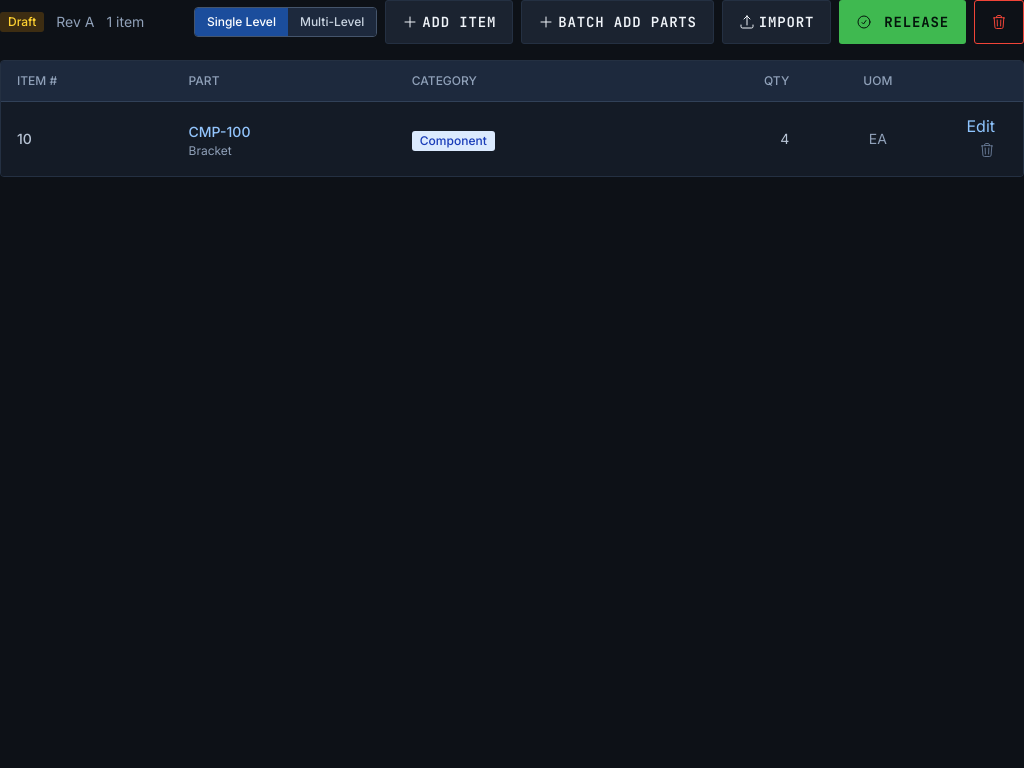
Test: PartBOMTab delete-item confirm pending › stays open and pending mid-flight, blocks a re-click, and closes after settle
The width and height of the screenshot is (1024, 768).
Click the button named "Delete CMP-100" at (987, 150), box [975,138,999,162]
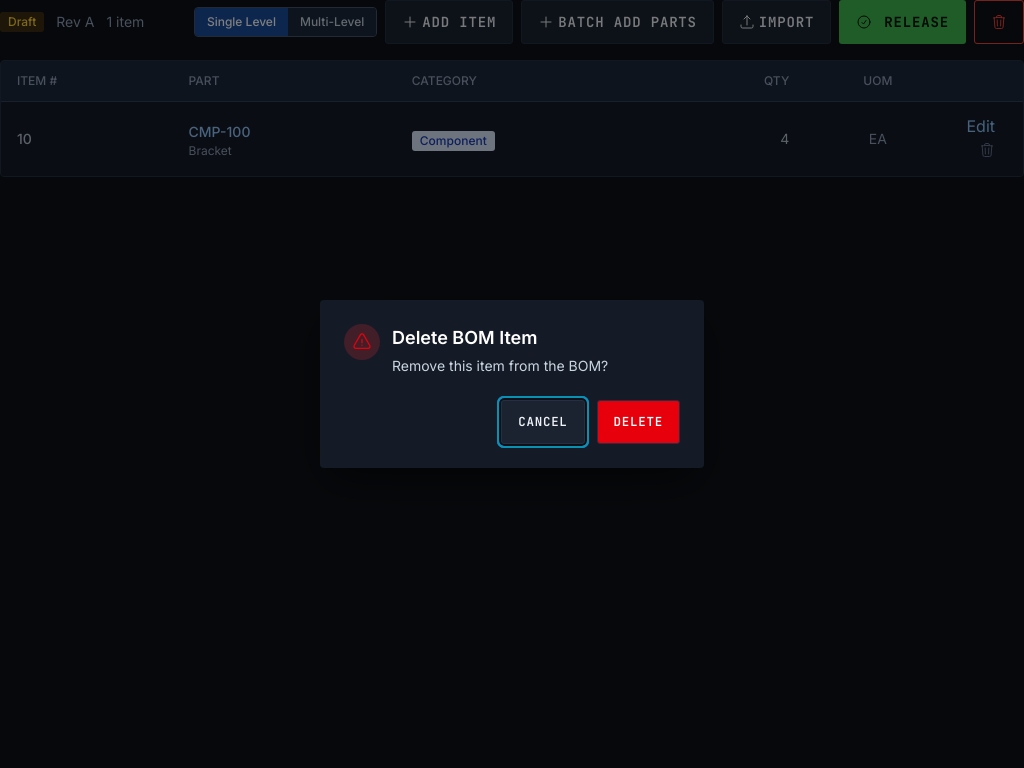
expect the heading "Delete BOM Item" is shown: met, box [392,327,538,348]
Click the button "Delete" at (638, 422), box [597,400,680,444]
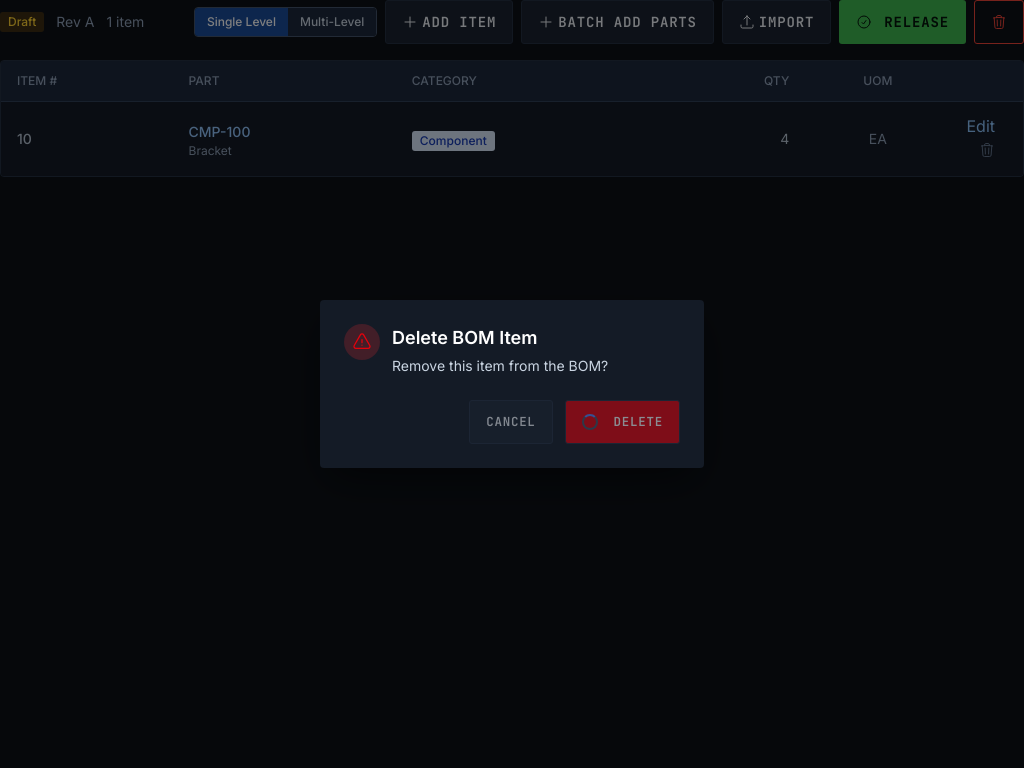
expect the dialog is shown: met, box [320,300,704,468]
expect the message named "Loading" is shown: met, box [582,414,598,430]
expect the button "Delete" is disabled: met
Note: Re-click posts nothing extra.
Click the button "Delete" at (622, 422), box [565,400,680,444]
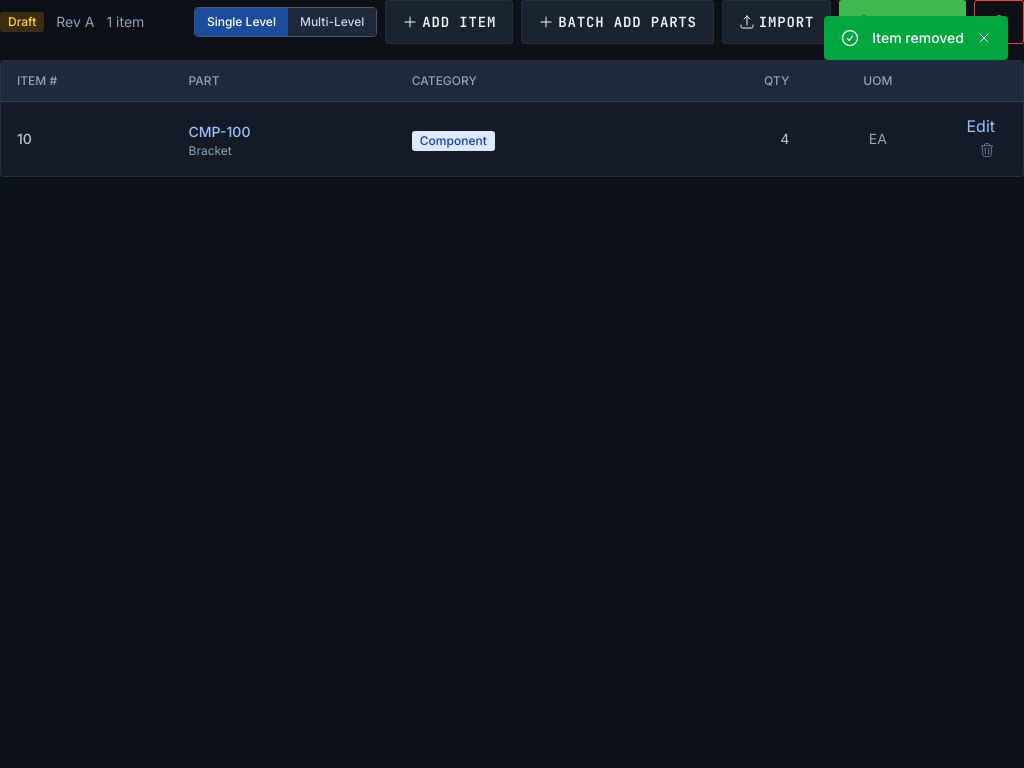
expect the dialog is gone: met
